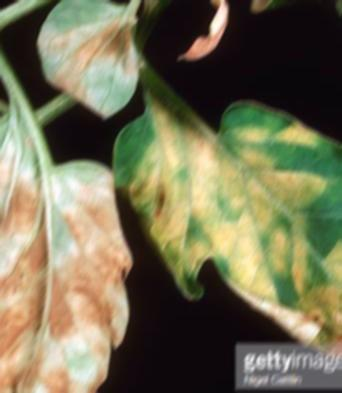Tomato mold leaf: (125, 93, 342, 393)
